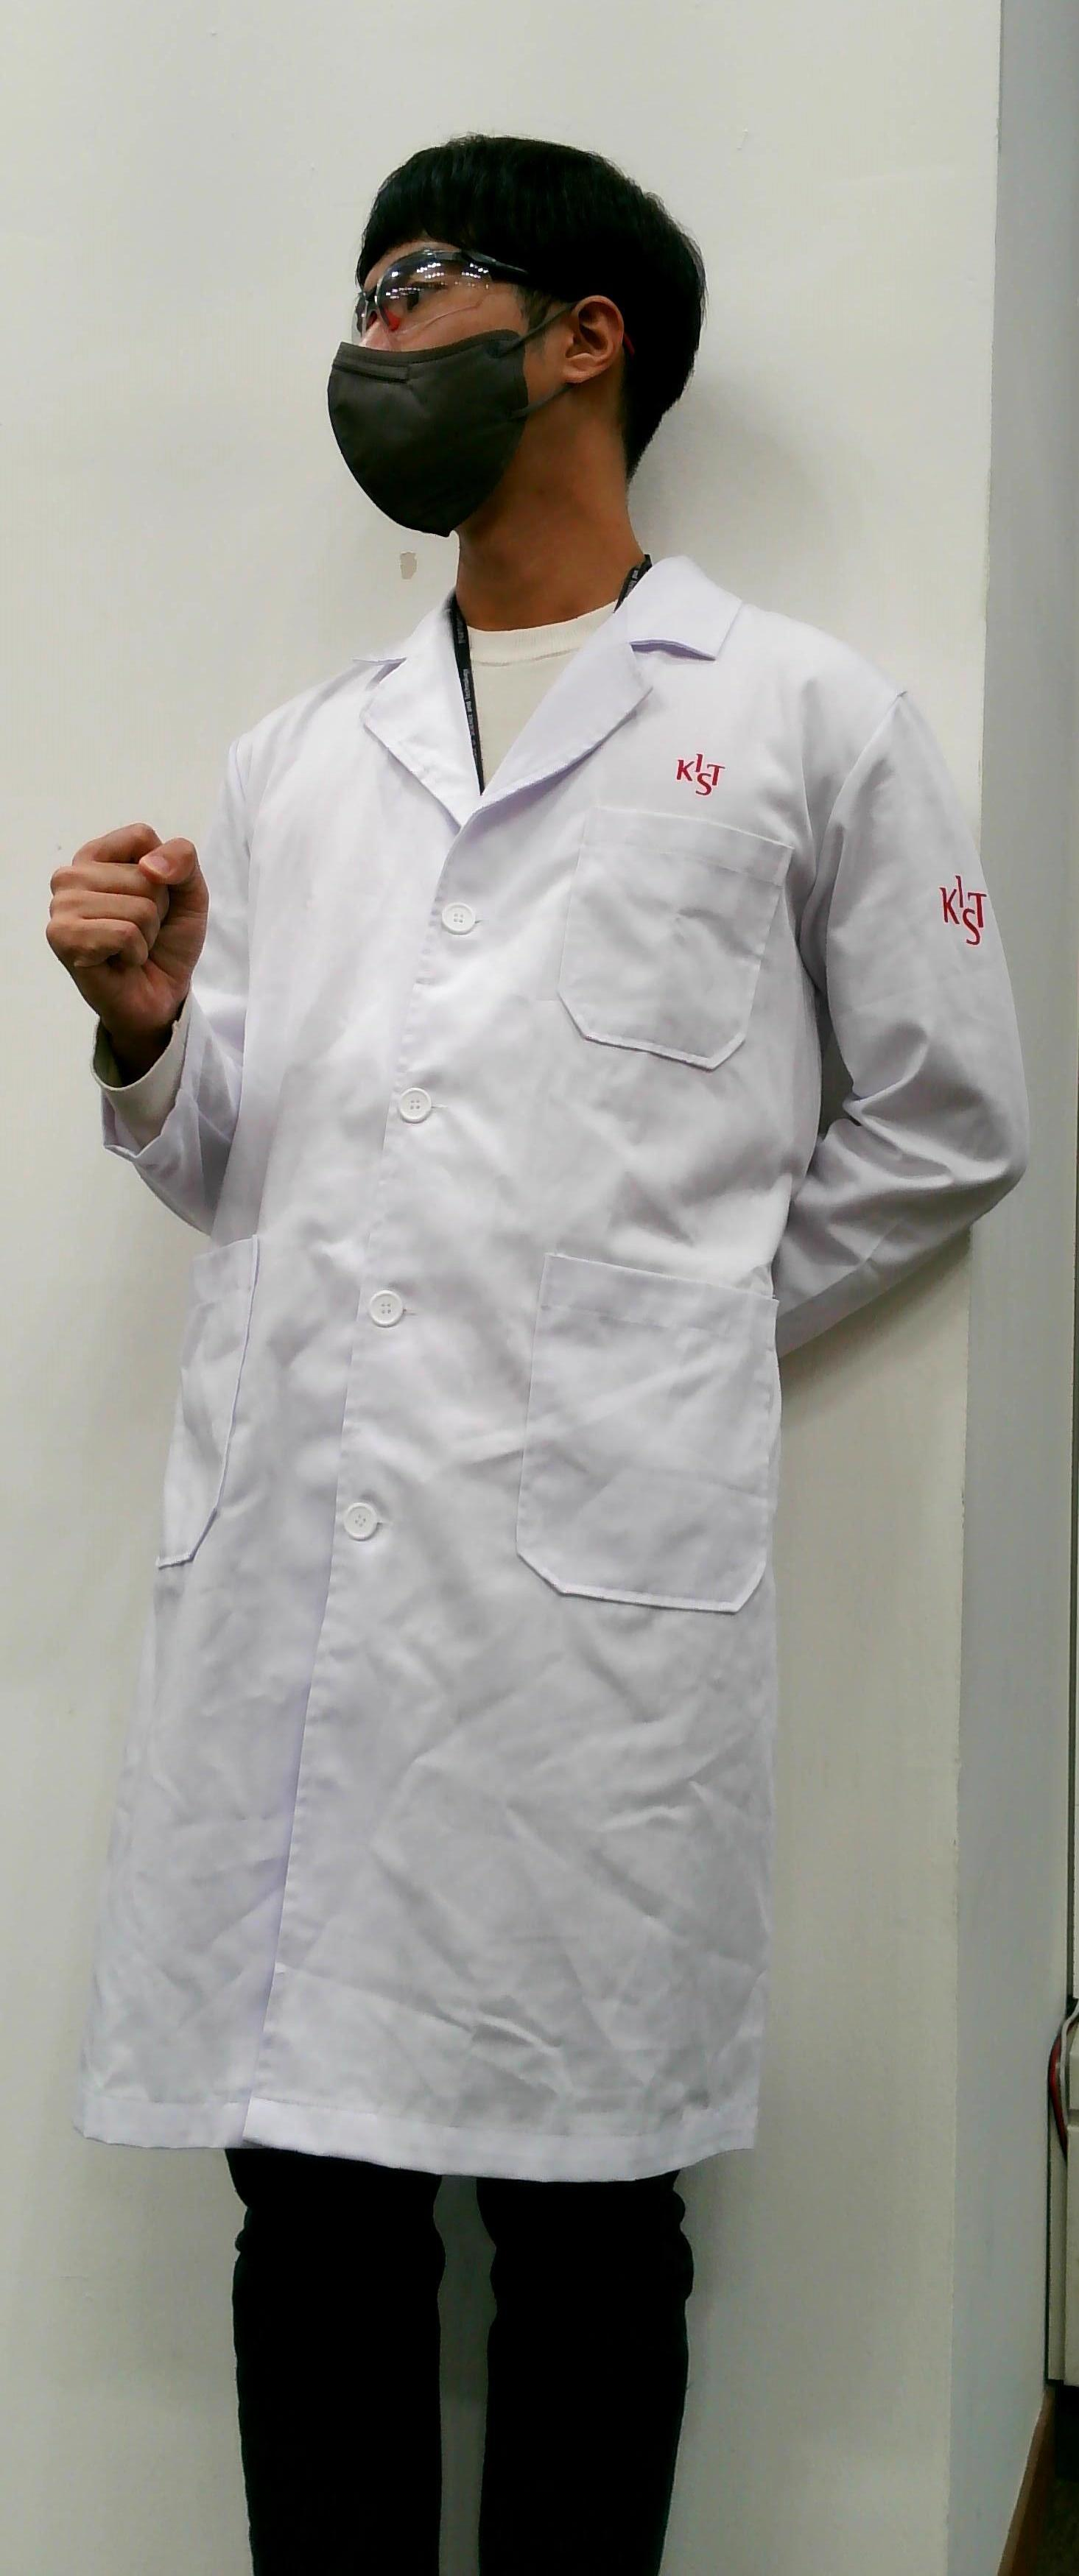lab_coat: (223, 634, 944, 2137)
